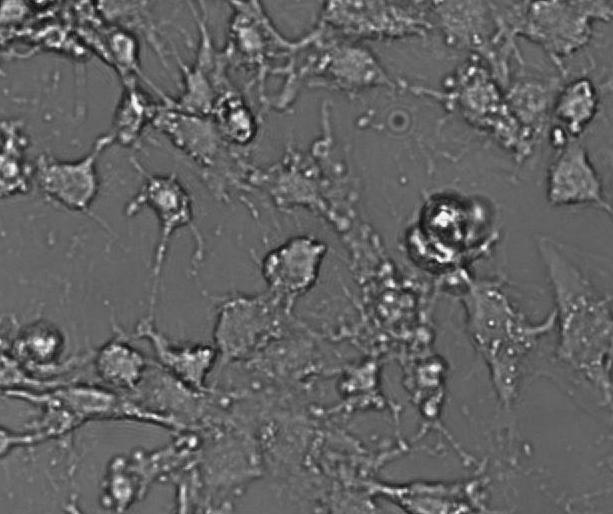Dead: (144, 171, 196, 230), (555, 73, 599, 142), (420, 186, 468, 245), (13, 316, 68, 365), (217, 90, 258, 146), (406, 227, 459, 269), (467, 198, 501, 251)
